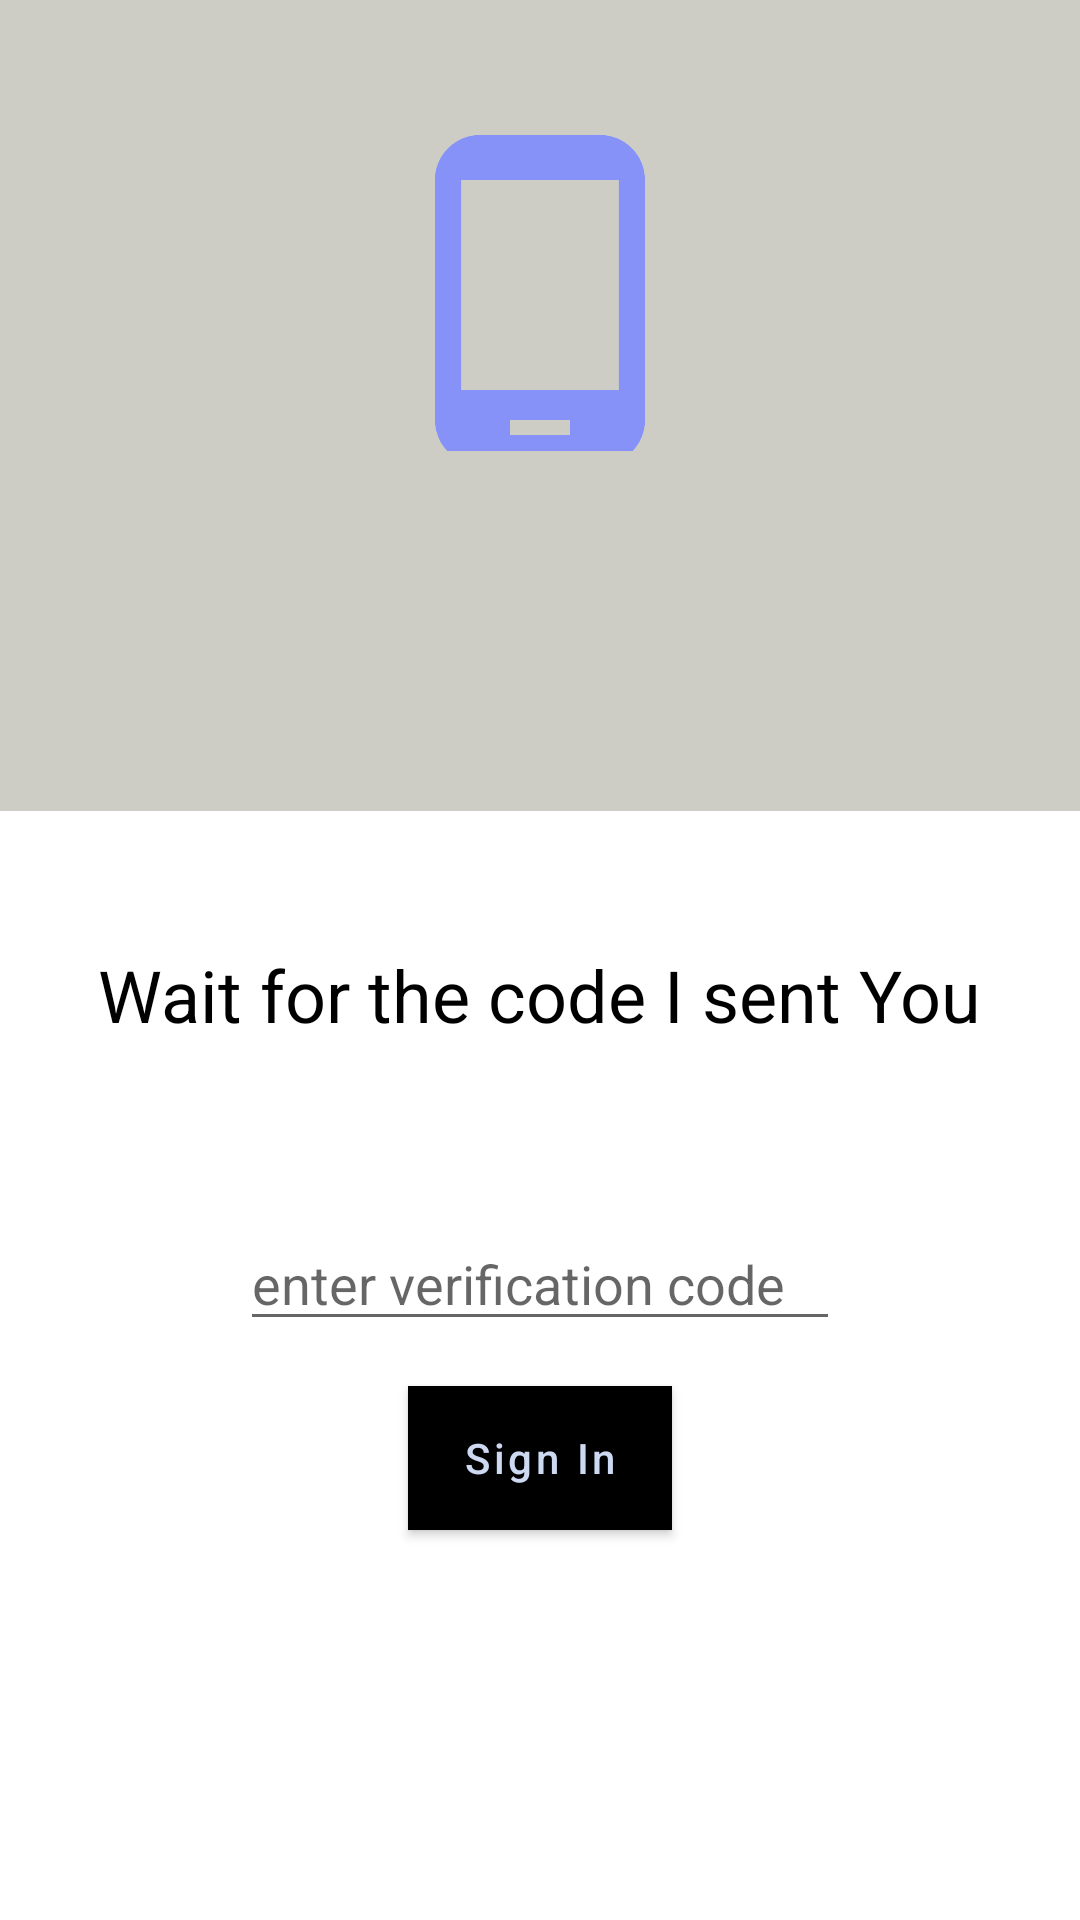

Icons on this 1080 × 1920 Android screen, each with its box as Rect(x1, y1, x2, y2):
phone android: Rect(435, 135, 645, 451)
